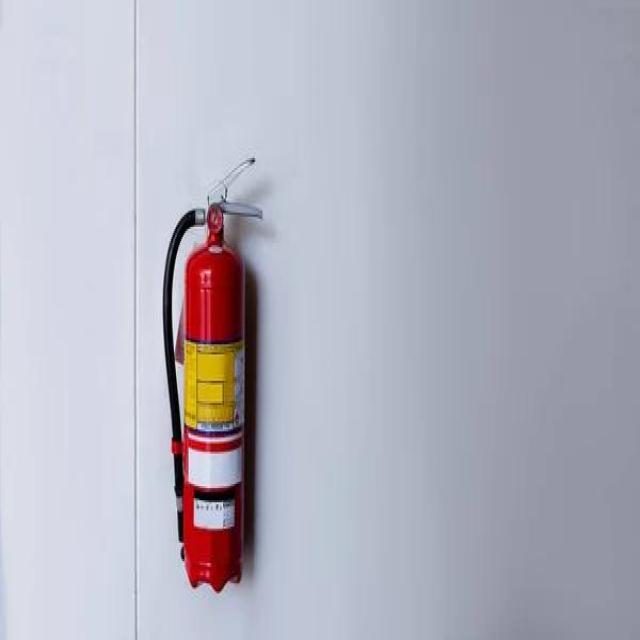fire_extinguisher: (158, 151, 264, 596)
